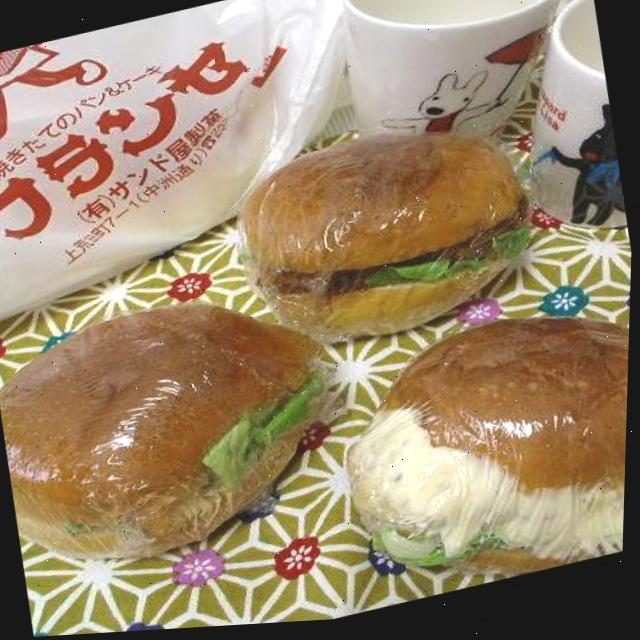三明治: (0, 81, 637, 640)
